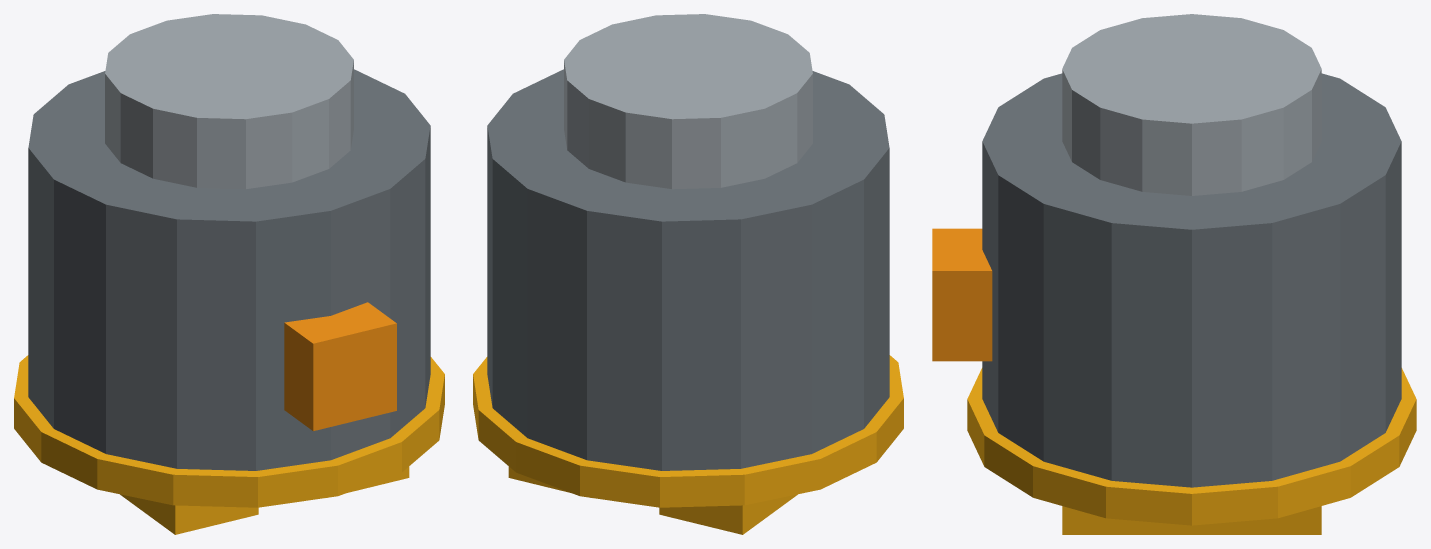
File: body.obj
3 views of the same model, side by side, from view 1: azimuth 30°, elevation 25°; view 2: azimuth 150°, elevation 25°; view 3: azimuth 270°, elevation 25° (orthographic). The views are drawn at different scales.
Size of the model in its own units: 0.45 by 0.45 by 0.485.
